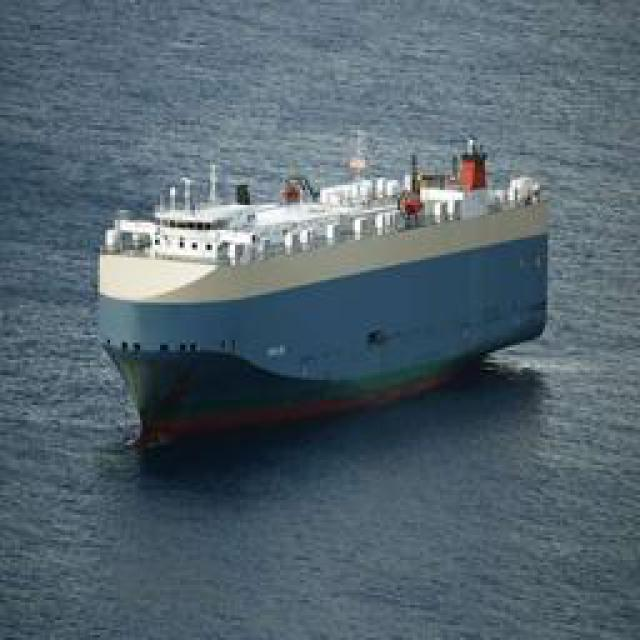Ship: (100, 129, 563, 442)
